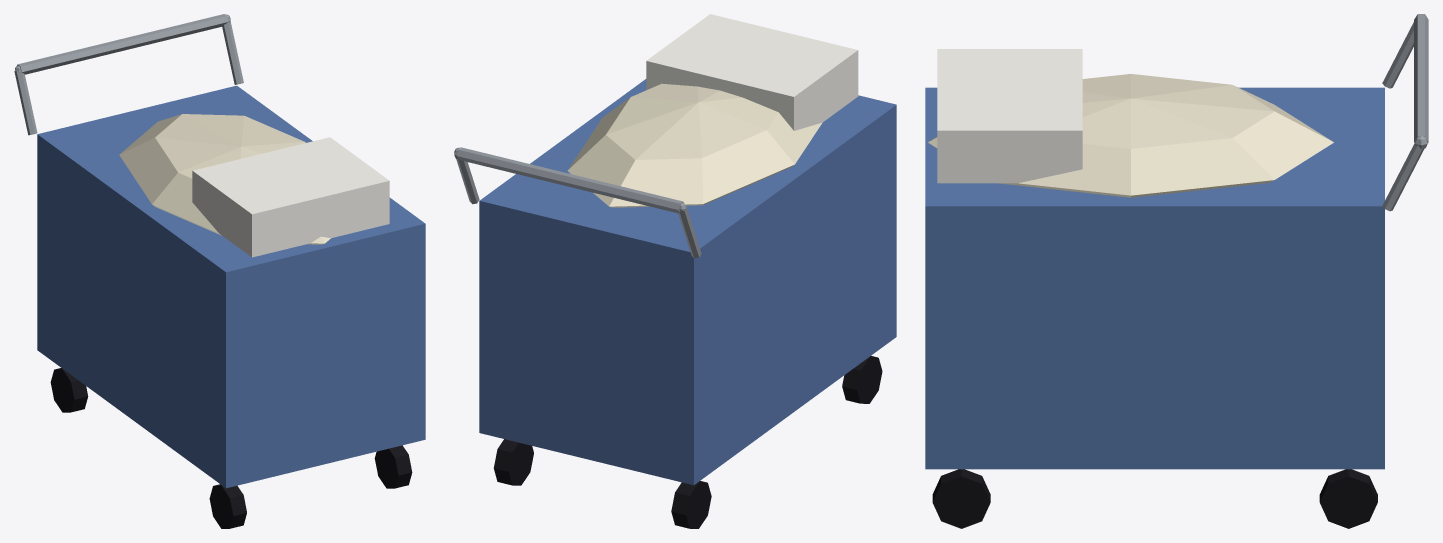
Rendered from laundry_cart.glb.
3 views of the same model, side by side, from view 1: azimuth 30°, elevation 25°; view 2: azimuth 150°, elevation 25°; view 3: azimuth 270°, elevation 25° (orthographic). The views are drawn at different scales.
Visible parts, largest first — view 1: bag_cart_canvas, towels_towel, sheets_sheets_dirty, frame_cart_metal, wheels_black; view 2: bag_cart_canvas, sheets_sheets_dirty, towels_towel, wheels_black, frame_cart_metal; view 3: bag_cart_canvas, sheets_sheets_dirty, towels_towel, wheels_black, frame_cart_metal.
Part boxes in pixels (bbox=[...]): bag_cart_canvas: bbox=[37, 85, 425, 488]; towels_towel: bbox=[192, 137, 389, 257]; sheets_sheets_dirty: bbox=[119, 114, 330, 244]; frame_cart_metal: bbox=[14, 14, 243, 135]; wheels_black: bbox=[50, 368, 412, 528]; bag_cart_canvas: bbox=[479, 79, 896, 485]; sheets_sheets_dirty: bbox=[567, 83, 822, 207]; towels_towel: bbox=[646, 14, 858, 130]; wheels_black: bbox=[493, 356, 882, 528]; frame_cart_metal: bbox=[454, 147, 701, 258]; bag_cart_canvas: bbox=[925, 87, 1384, 469]; sheets_sheets_dirty: bbox=[928, 74, 1333, 197]; towels_towel: bbox=[937, 49, 1082, 183]; wheels_black: bbox=[932, 469, 1377, 528]; frame_cart_metal: bbox=[1382, 14, 1428, 211].
Size of the model in its own units: 0.627 by 0.915 by 1.04.
